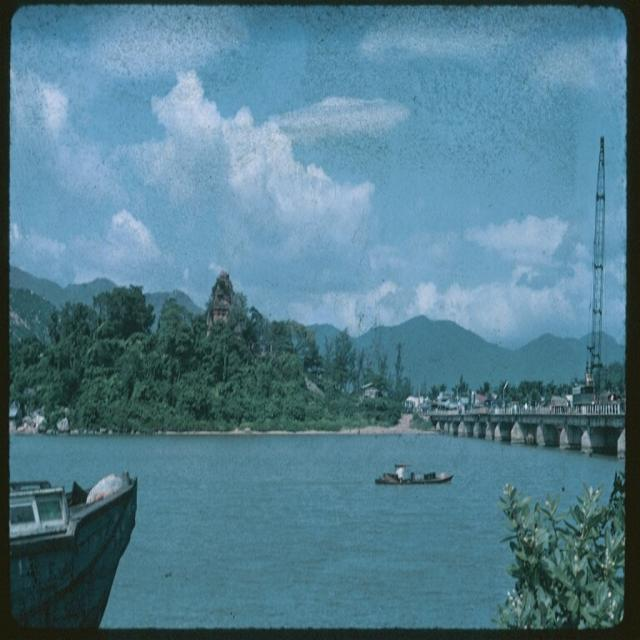Boat: (2, 454, 148, 606), (378, 465, 452, 485)
